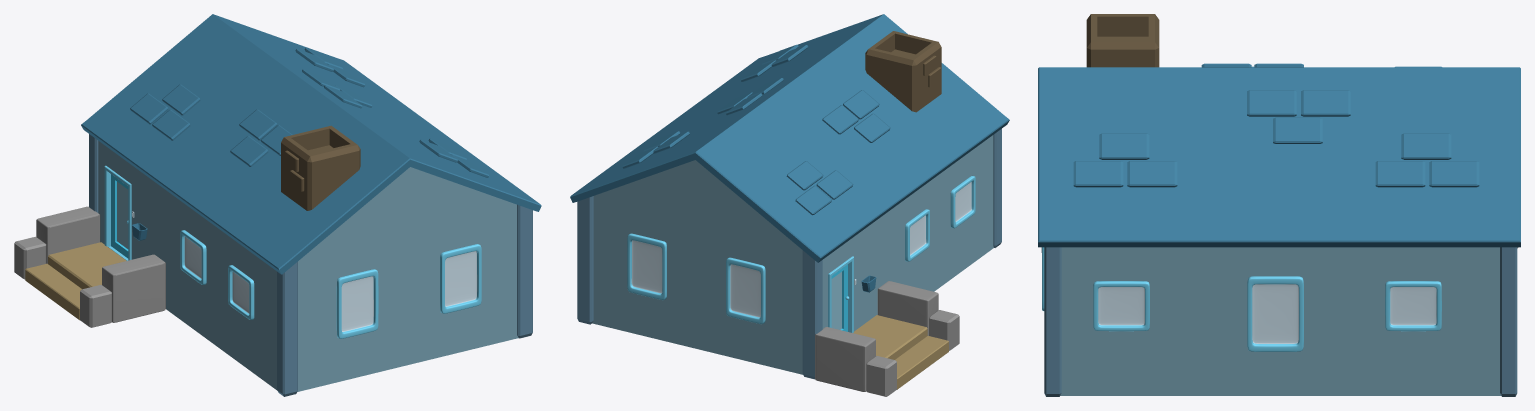
Rendered from house.fbx.
3 views of the same model, side by side, from view 1: azimuth 30°, elevation 25°; view 2: azimuth 150°, elevation 25°; view 3: azimuth 270°, elevation 25° (orthographic). The views are drawn at different scales.
Visible parts, largest first — view 1: House.001, StairBorder1, Chimney, Stairs, StairBorder2, WindowBack7, pCube8, WindowBack6, pCube7, BrickFront2, BrickFront1, WindowBack9 (+5 smaller); view 2: House.001, StairBorder2, Chimney, Stairs, StairBorder1, WindowBack3, WindowBack4, pCube5, pCube6, BrickFront2, BrickFront1, WindowBack8 (+6 smaller); view 3: House.001, WindowBack5, BrickBack1, BrickBack3, BrickBack2, Chimney, WindowBack2, WindowBack1, pCube6, pCube7, BrickFront1.
Part boxes in pixels (x1=…): House.001: x1=81, y1=14, x2=541, y2=391; StairBorder1: x1=80, y1=254, x2=165, y2=327; Chimney: x1=281, y1=125, x2=360, y2=210; Stairs: x1=25, y1=242, x2=126, y2=320; StairBorder2: x1=14, y1=206, x2=100, y2=279; WindowBack7: x1=336, y1=269, x2=378, y2=338; pCube8: x1=277, y1=261, x2=297, y2=396; WindowBack6: x1=440, y1=244, x2=481, y2=313; pCube7: x1=517, y1=204, x2=532, y2=338; BrickFront2: x1=130, y1=84, x2=200, y2=140; BrickFront1: x1=230, y1=109, x2=292, y2=166; WindowBack9: x1=180, y1=230, x2=206, y2=284; House.001: x1=570, y1=14, x2=1009, y2=374; StairBorder2: x1=815, y1=327, x2=896, y2=396; Chimney: x1=865, y1=31, x2=941, y2=112; Stairs: x1=853, y1=315, x2=948, y2=389; StairBorder1: x1=877, y1=281, x2=959, y2=350; WindowBack3: x1=627, y1=233, x2=666, y2=300; WindowBack4: x1=726, y1=257, x2=765, y2=324; pCube5: x1=802, y1=250, x2=822, y2=379; pCube6: x1=577, y1=196, x2=593, y2=324; BrickFront2: x1=786, y1=161, x2=853, y2=215; BrickFront1: x1=822, y1=90, x2=890, y2=142; WindowBack8: x1=950, y1=175, x2=975, y2=228; House.001: x1=1038, y1=67, x2=1520, y2=395; WindowBack5: x1=1247, y1=276, x2=1303, y2=351; BrickBack1: x1=1073, y1=133, x2=1177, y2=187; BrickBack3: x1=1375, y1=133, x2=1479, y2=187; BrickBack2: x1=1247, y1=90, x2=1350, y2=143; Chimney: x1=1086, y1=14, x2=1159, y2=67; WindowBack2: x1=1385, y1=281, x2=1441, y2=331; WindowBack1: x1=1093, y1=281, x2=1149, y2=331; pCube6: x1=1500, y1=247, x2=1517, y2=396; pCube7: x1=1044, y1=247, x2=1061, y2=396; BrickFront1: x1=1201, y1=63, x2=1303, y2=67.
Size of the model in its own units: 2516 by 1562 by 2605.
